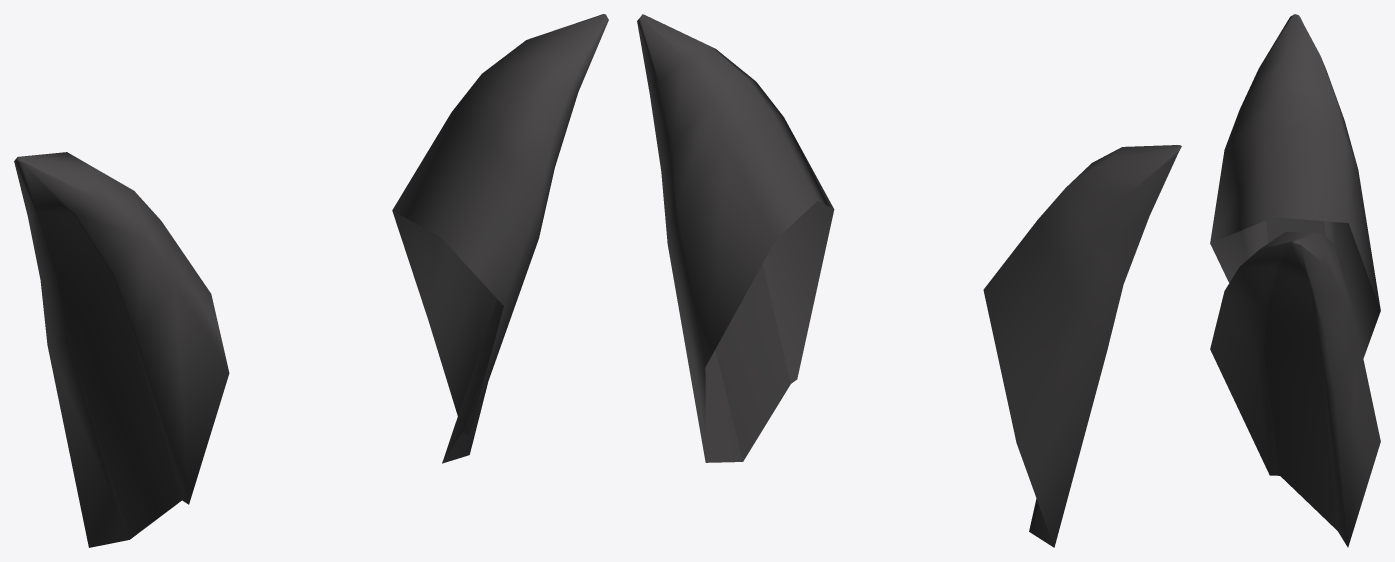
File: panther_ear.fbx
3 views of the same model, side by side, from view 1: azimuth 30°, elevation 25°; view 2: azimuth 150°, elevation 25°; view 3: azimuth 270°, elevation 25° (orthographic). The views are drawn at different scales.
Parts seen in each view (by area): view 1: panther_ear; view 2: panther_ear; view 3: panther_ear.
Boxes of the visible parts, x1,y1,x2,y2 form: panther_ear: (14,14,608,547); panther_ear: (637,14,1181,547); panther_ear: (1210,14,1380,547).
Bounding box in the file's own units: 109 × 77.9 × 34.68.
